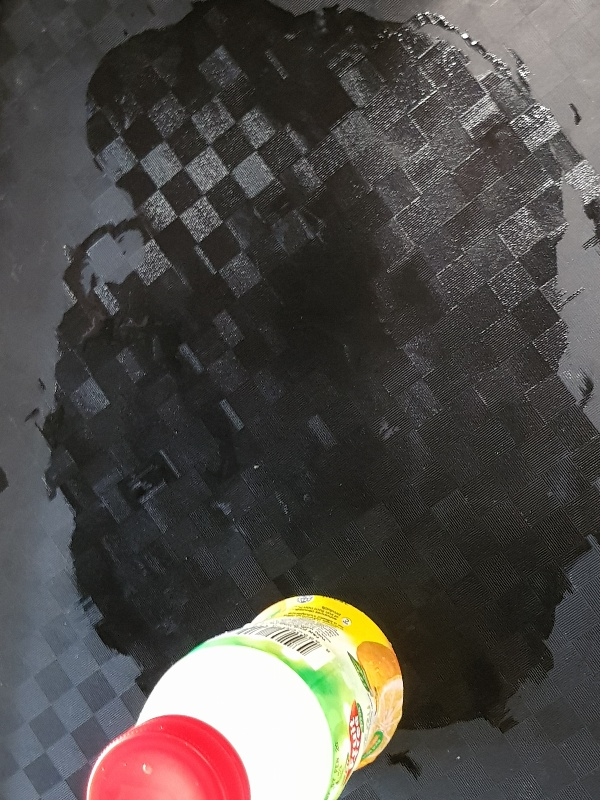Fruit Tree Yuzu Mixed Juice Drink: (84, 594, 402, 800)
